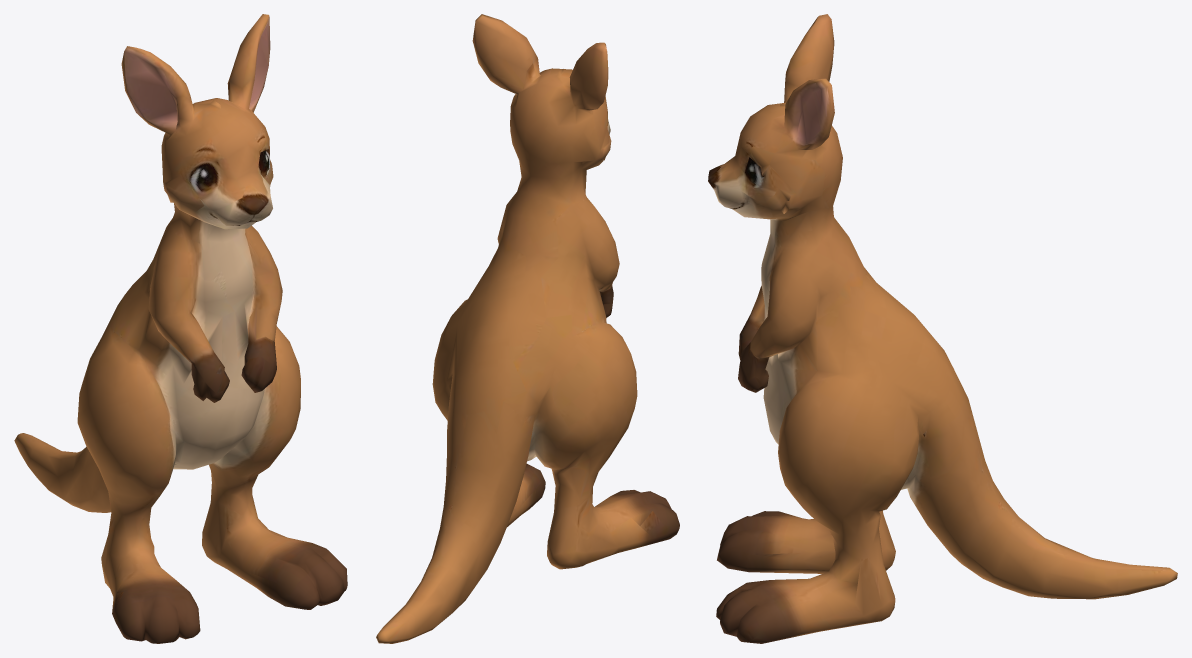
File: kangaroo.glb
3 renders of one model, left to right at view 1: azimuth 30°, elevation 25°; view 2: azimuth 150°, elevation 25°; view 3: azimuth 270°, elevation 25°, orthographic. The views are drawn at different scales.
Visible parts, largest first — view 1: model; view 2: model; view 3: model.
Part boxes in pixels (left/top/right/bottom): model: left=14, top=14, right=347, bottom=643; model: left=376, top=14, right=679, bottom=643; model: left=708, top=14, right=1177, bottom=643.
Size of the model in its own units: 0.7933 by 1.89 by 1.47.
Materials: 1 (1 with a texture image).
